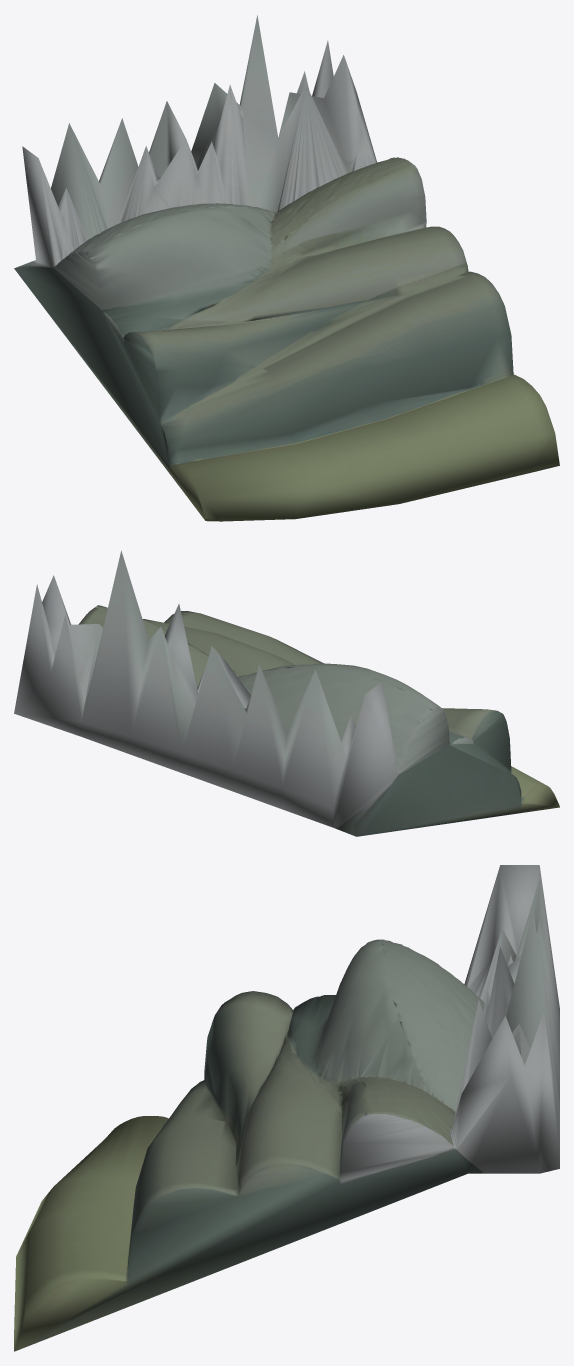
Rendered from selected.glb.
3 views of the same model, one above another, from view 1: azimuth 30°, elevation 25°; view 2: azimuth 150°, elevation 25°; view 3: azimuth 270°, elevation 25° (orthographic). The views are drawn at different scales.
Parts seen in each view (by area): view 1: tripo_node_e7244ef8-8396-4ede-834a-3d14edf963c5; view 2: tripo_node_e7244ef8-8396-4ede-834a-3d14edf963c5; view 3: tripo_node_e7244ef8-8396-4ede-834a-3d14edf963c5.
Boxes of the visible parts, x1=… form: tripo_node_e7244ef8-8396-4ede-834a-3d14edf963c5: x1=14, y1=15, x2=559, y2=521; tripo_node_e7244ef8-8396-4ede-834a-3d14edf963c5: x1=14, y1=550, x2=559, y2=836; tripo_node_e7244ef8-8396-4ede-834a-3d14edf963c5: x1=14, y1=865, x2=559, y2=1351.
Bounding box in the file's own units: 0.832 × 0.7832 × 0.998.
Materials: 1 (1 with a texture image).
